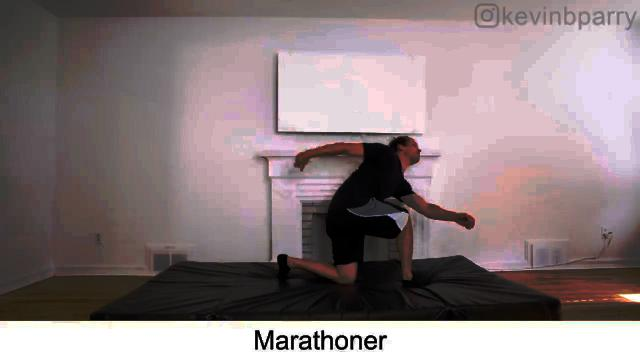jatuh: (266, 128, 478, 298)
